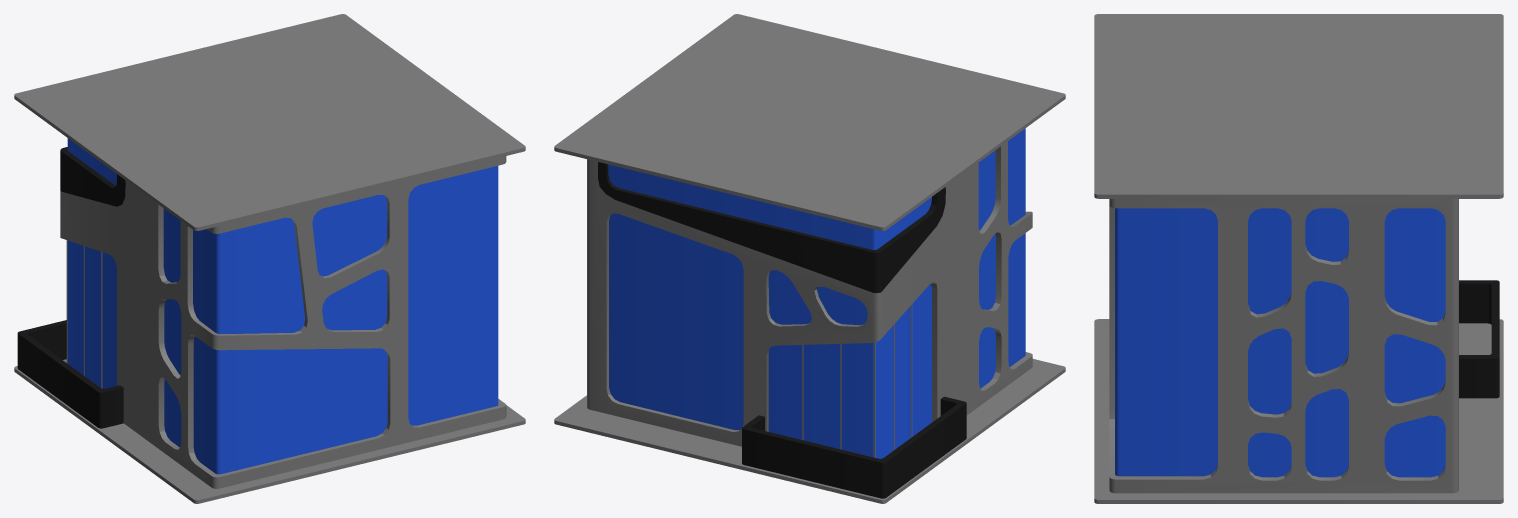
File: SM_B_Simple_04.fbx
3 views of the same model, side by side, from view 1: azimuth 30°, elevation 25°; view 2: azimuth 150°, elevation 25°; view 3: azimuth 270°, elevation 25° (orthographic). The views are drawn at different scales.
Parts seen in each view (by area): view 1: SM_B_Simple_04; view 2: SM_B_Simple_04; view 3: SM_B_Simple_04.
Boxes of the visible parts, <box> form: SM_B_Simple_04: <box>14,14,525,503</box>; SM_B_Simple_04: <box>554,14,1065,503</box>; SM_B_Simple_04: <box>1094,14,1503,503</box>.
Size of the model in its own units: 2101 by 1675 by 2009.
